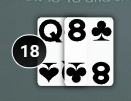8: (64, 16, 90, 45)
q: (35, 17, 65, 45)
